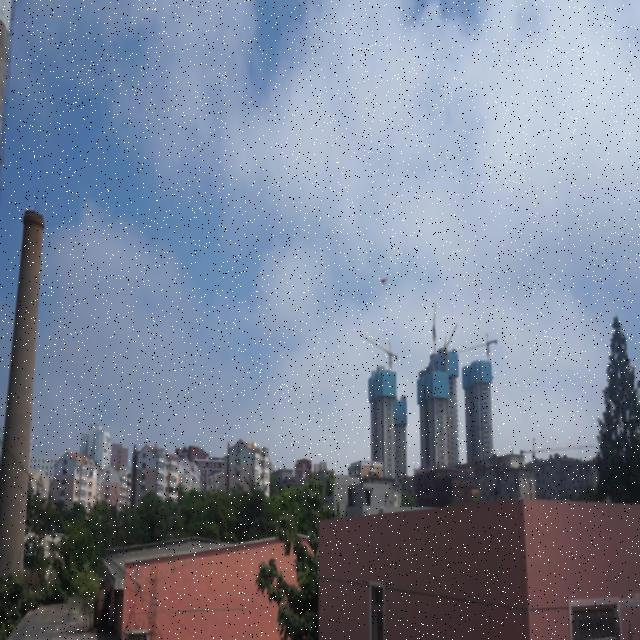UAV: (379, 275, 389, 287)
